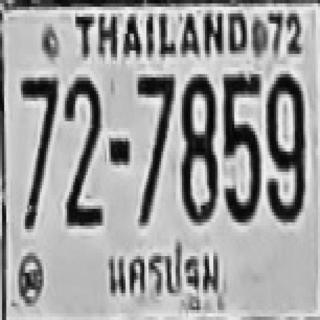N02: (63, 74, 100, 226)
N05: (222, 71, 259, 219)
N07: (19, 74, 57, 226), (136, 72, 174, 221), (19, 74, 57, 178)
N08: (180, 72, 215, 221)
N09: (266, 71, 303, 219)
P28: (102, 238, 223, 311)
